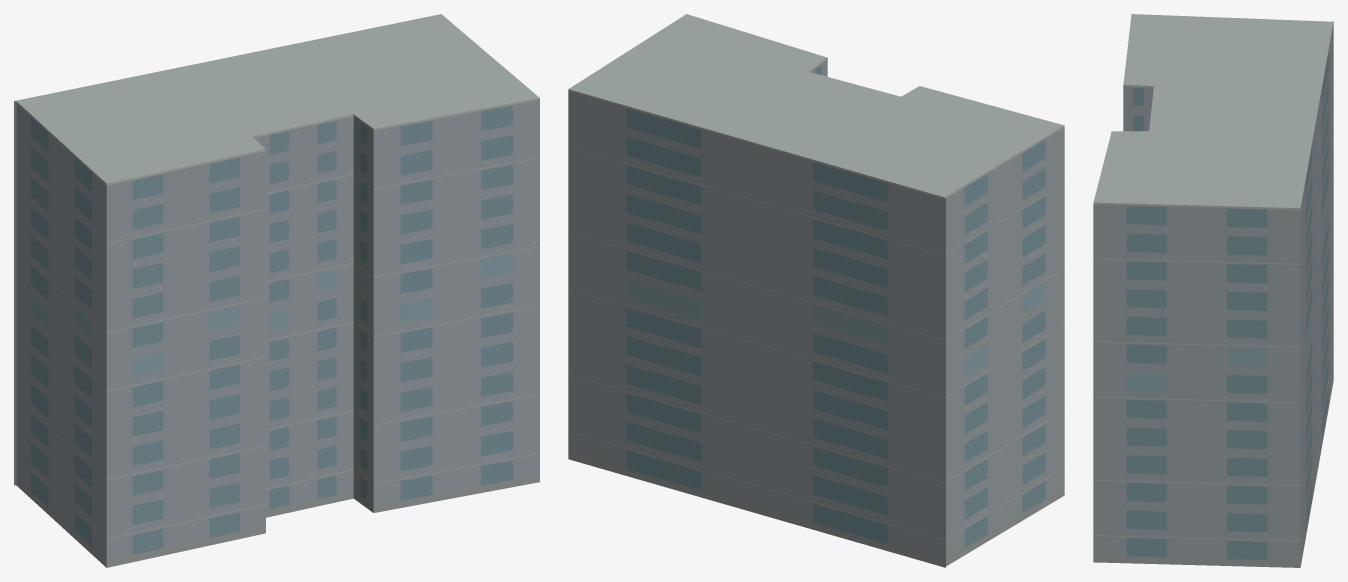
The model's file is survey-upis-32731147.glb.
3 renders of one model, left to right at view 1: azimuth 30°, elevation 25°; view 2: azimuth 150°, elevation 25°; view 3: azimuth 270°, elevation 25°, orthographic. The views are drawn at different scales.
Parts seen in each view (by area): view 1: survey-upis-32731147.tmp; view 2: survey-upis-32731147.tmp; view 3: survey-upis-32731147.tmp.
Part boxes in pixels (<box>): survey-upis-32731147.tmp: <box>14,14,539,567</box>; survey-upis-32731147.tmp: <box>568,14,1064,567</box>; survey-upis-32731147.tmp: <box>1093,14,1333,567</box>.
Bounding box in the file's own units: 53.44 × 46.15 × 27.95.
